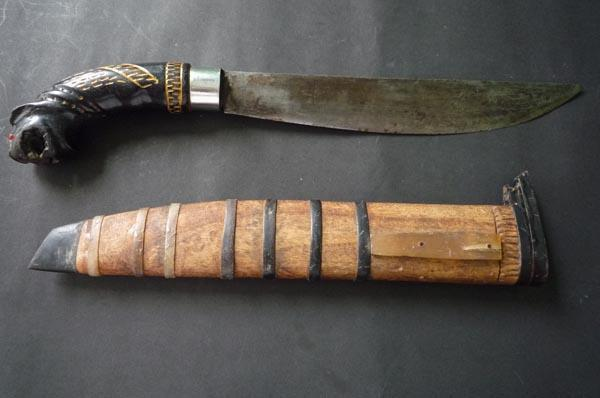facao: (9, 62, 581, 164)
